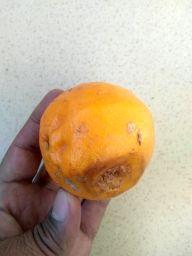Ripe: (38, 83, 154, 202)
